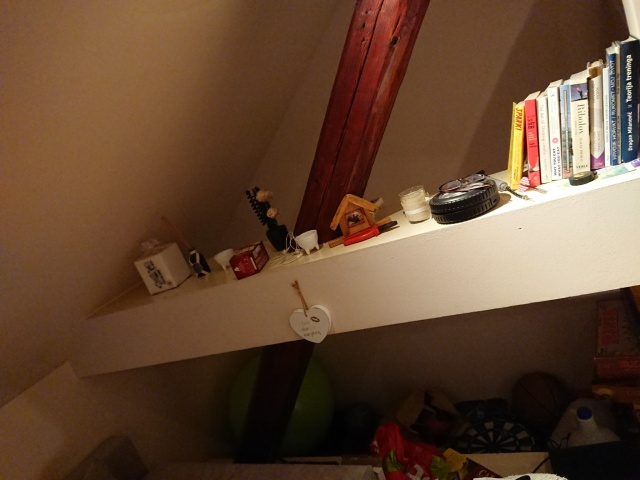Franck Apple Cinnamon Tea 60g: (226, 237, 272, 283)
